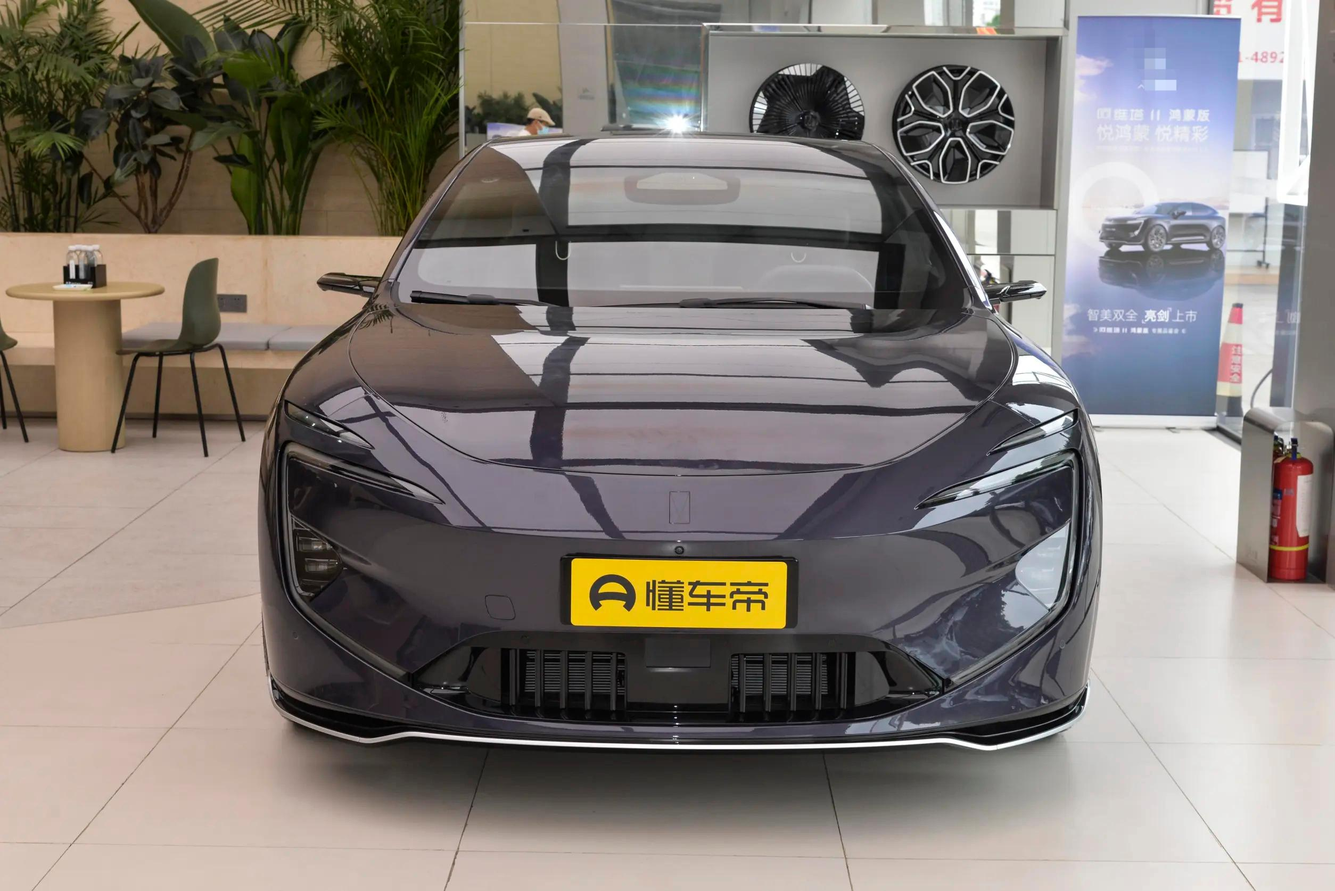AVATR: (670, 491, 690, 524)
